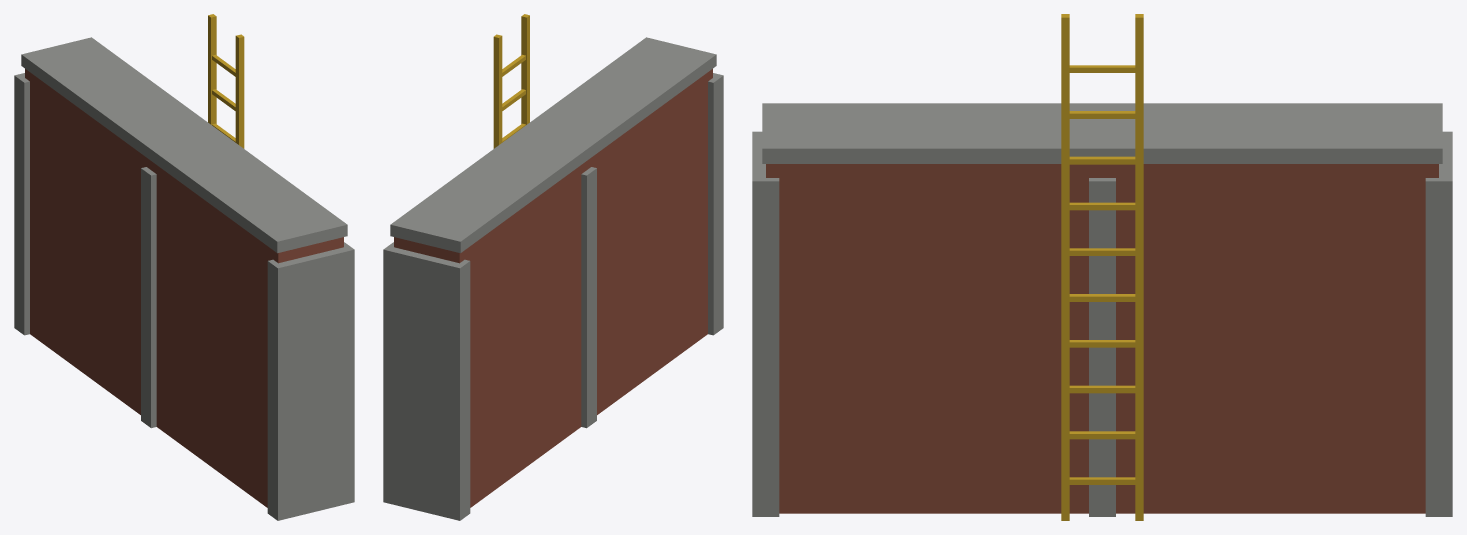
The model's file is retaining_wall.glb.
3 renders of one model, left to right at view 1: azimuth 30°, elevation 25°; view 2: azimuth 150°, elevation 25°; view 3: azimuth 270°, elevation 25°, orthographic. The views are drawn at different scales.
Parts seen in each view (by area): view 1: retaining_wall; view 2: retaining_wall; view 3: retaining_wall.
Boxes of the visible parts, box(x1,y1,x2,y2) form: retaining_wall: box(14, 14, 354, 520); retaining_wall: box(383, 14, 723, 520); retaining_wall: box(752, 14, 1452, 520).
Bounding box in the file's own units: 0.755 × 3.3 × 4.16.
